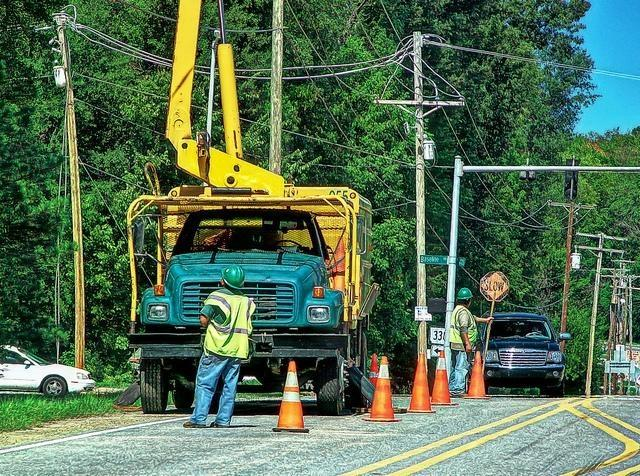car: (480, 312, 571, 397), (2, 346, 98, 398)
truck: (126, 0, 380, 416), (485, 312, 570, 395)
